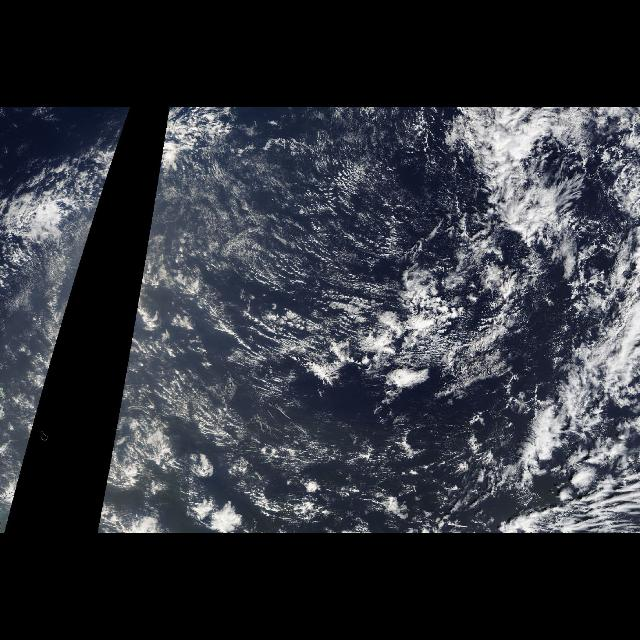Fish: (167, 243, 507, 389)
Sugar: (165, 166, 399, 310)
